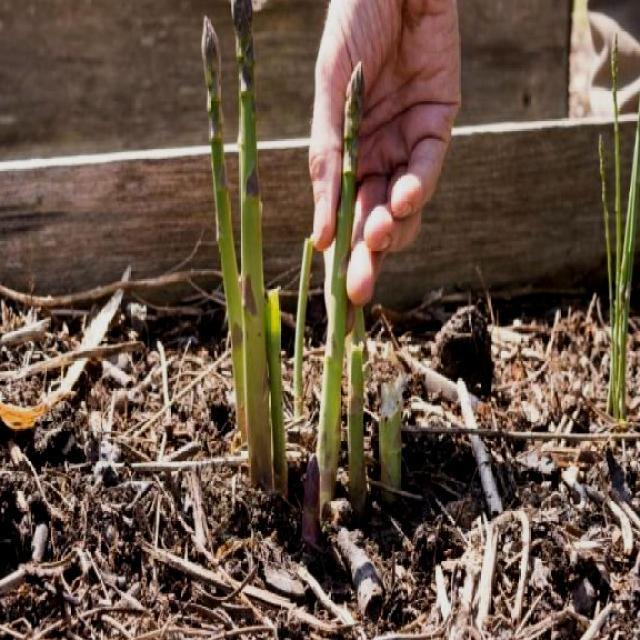aspargus: (316, 66, 365, 525)
